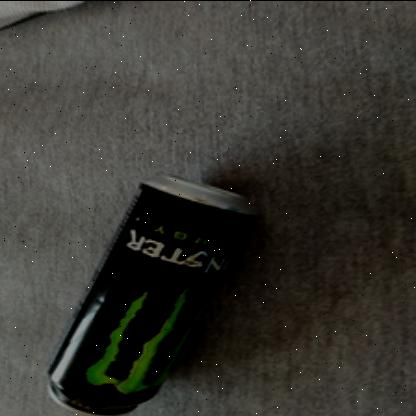Can: (44, 172, 260, 416)
